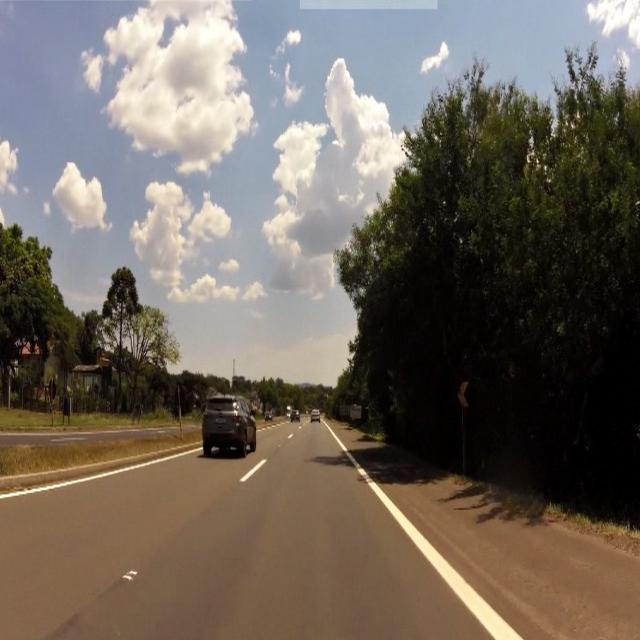Del: (453, 378, 478, 413)
